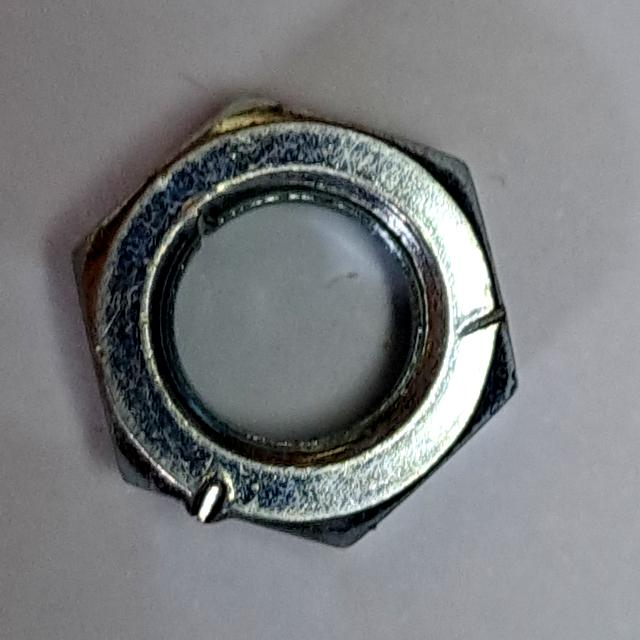Scratches: (64, 85, 536, 559)
